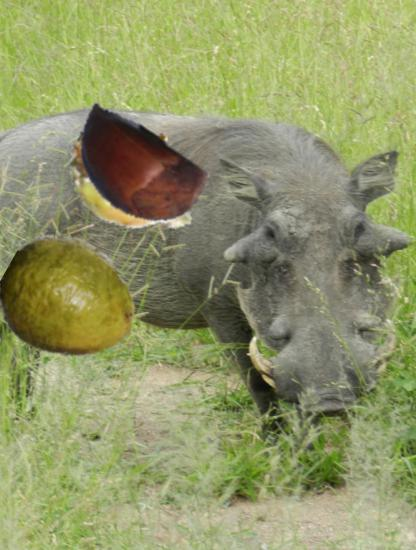Cactus: (63, 106, 209, 252)
Chestnut: (60, 97, 206, 243)
Guava: (0, 231, 140, 371)
